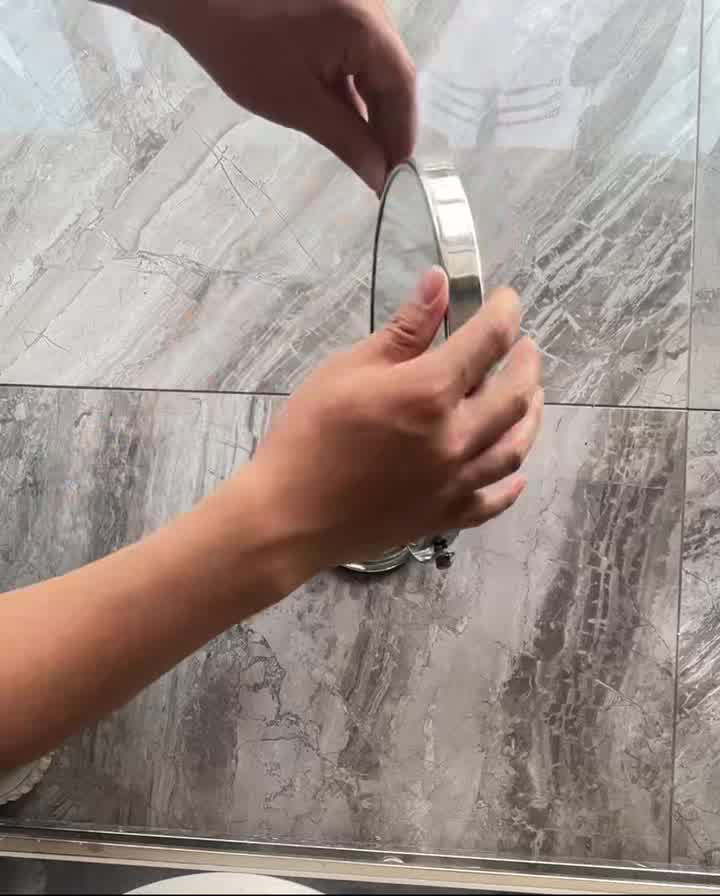mirror: (365, 149, 501, 567)
